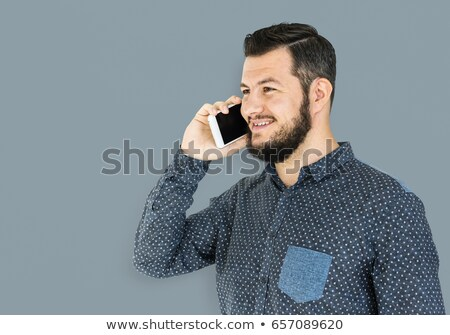phone: (192, 98, 251, 147)
talk: (181, 75, 310, 154)
